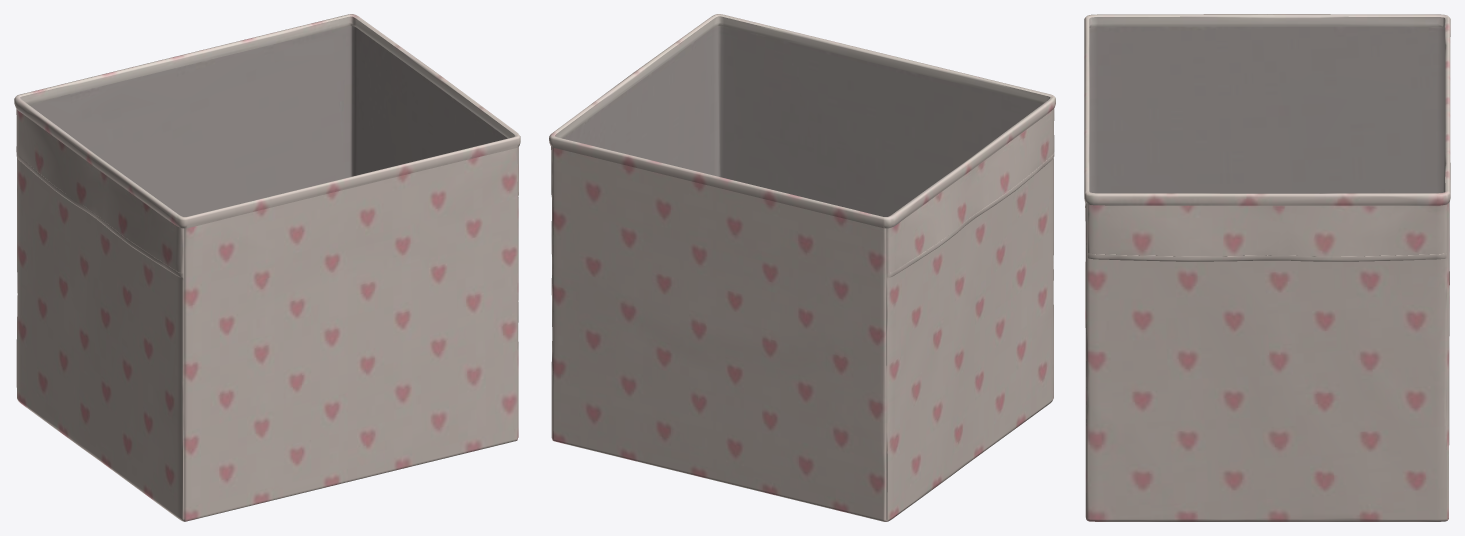
Rendered from regnbroms_pudeko_70555355.glb.
3 renders of one model, left to right at view 1: azimuth 30°, elevation 25°; view 2: azimuth 150°, elevation 25°; view 3: azimuth 270°, elevation 25°, orthographic. The views are drawn at different scales.
Visible parts, largest first — view 1: regnbroms_pudeko_70555355; view 2: regnbroms_pudeko_70555355; view 3: regnbroms_pudeko_70555355.
Boxes of the visible parts, <box> form: regnbroms_pudeko_70555355: <box>14,14,520,521</box>; regnbroms_pudeko_70555355: <box>549,14,1055,521</box>; regnbroms_pudeko_70555355: <box>1084,14,1450,521</box>.
Size of the model in its own units: 0.39 by 0.3261 by 0.3271.
1 material, 1 textured.
